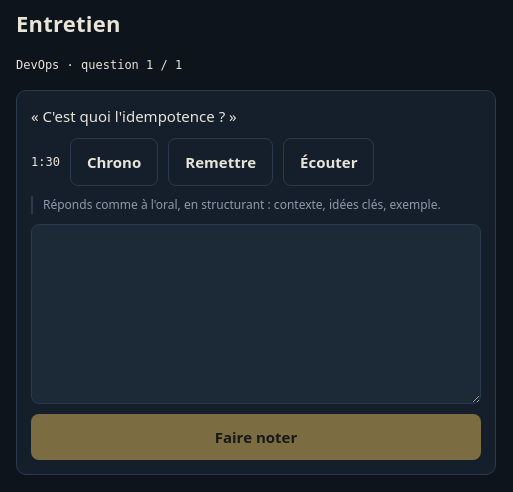
Test: bloque une réponse trop courte
Check: the text "« C'est quoi l'idempotence ? »" is shown, box [31,106,237,126]
Check: the button "Faire noter" is disabled, box [31,414,481,460]
Type "Relancer plusieurs fois donne le même état final." into the text box named "Ta réponse" at (256,314), box [31,224,481,404]
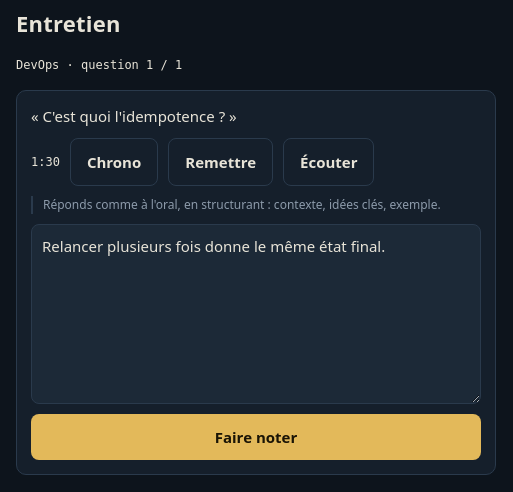
Check: the button "Faire noter" is enabled, box [31,414,481,460]
